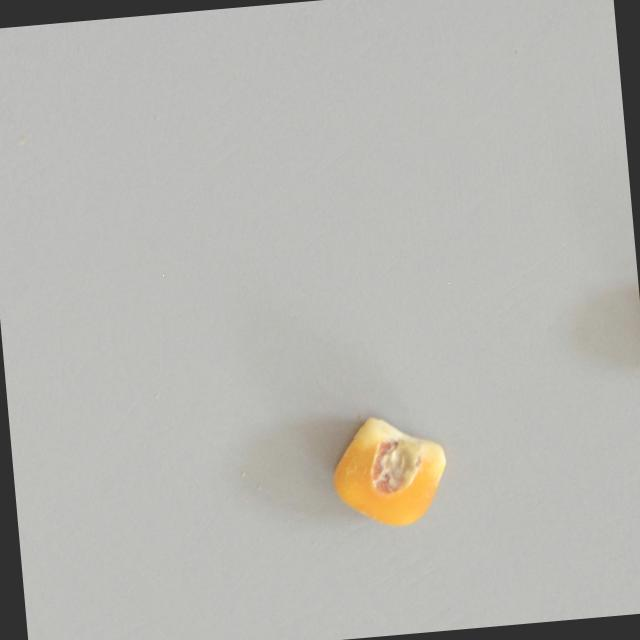dañado: (323, 407, 454, 534)
